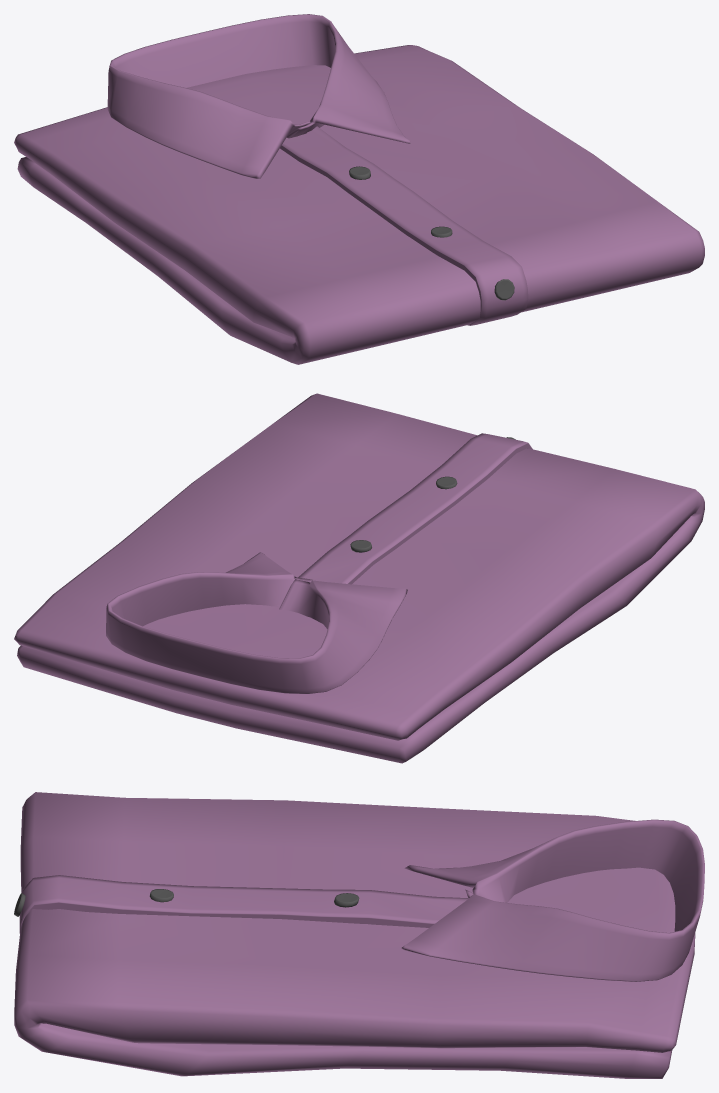
File: Folded_Shirt16.fbx
3 views of the same model, one above another, from view 1: azimuth 30°, elevation 25°; view 2: azimuth 150°, elevation 25°; view 3: azimuth 270°, elevation 25° (orthographic). The views are drawn at different scales.
Parts seen in each view (by area): view 1: Folded_Shirt16; view 2: Folded_Shirt16; view 3: Folded_Shirt16.
Part boxes in pixels (left/top/right/bottom): Folded_Shirt16: left=14, top=14, right=704, bottom=364; Folded_Shirt16: left=14, top=393, right=704, bottom=763; Folded_Shirt16: left=14, top=792, right=704, bottom=1078.
Bounding box in the file's own units: 24.95 × 5.51 × 33.25.
